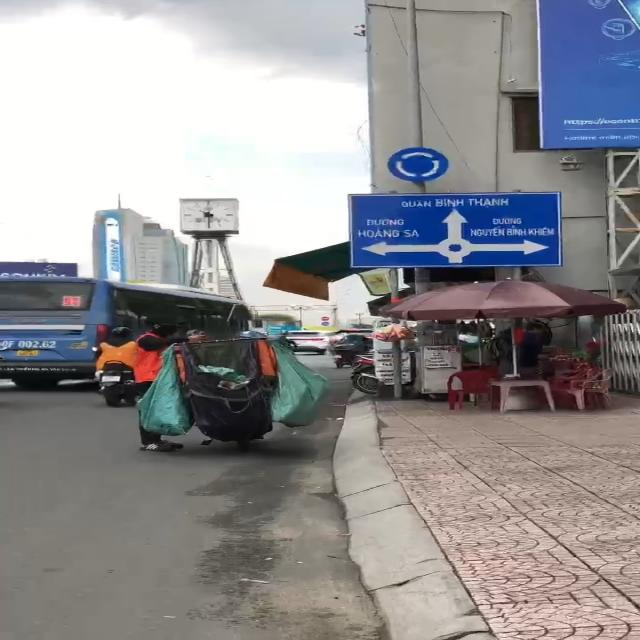Bien bao noi giao nhau chay theo vong xuyen: (377, 144, 457, 186)
